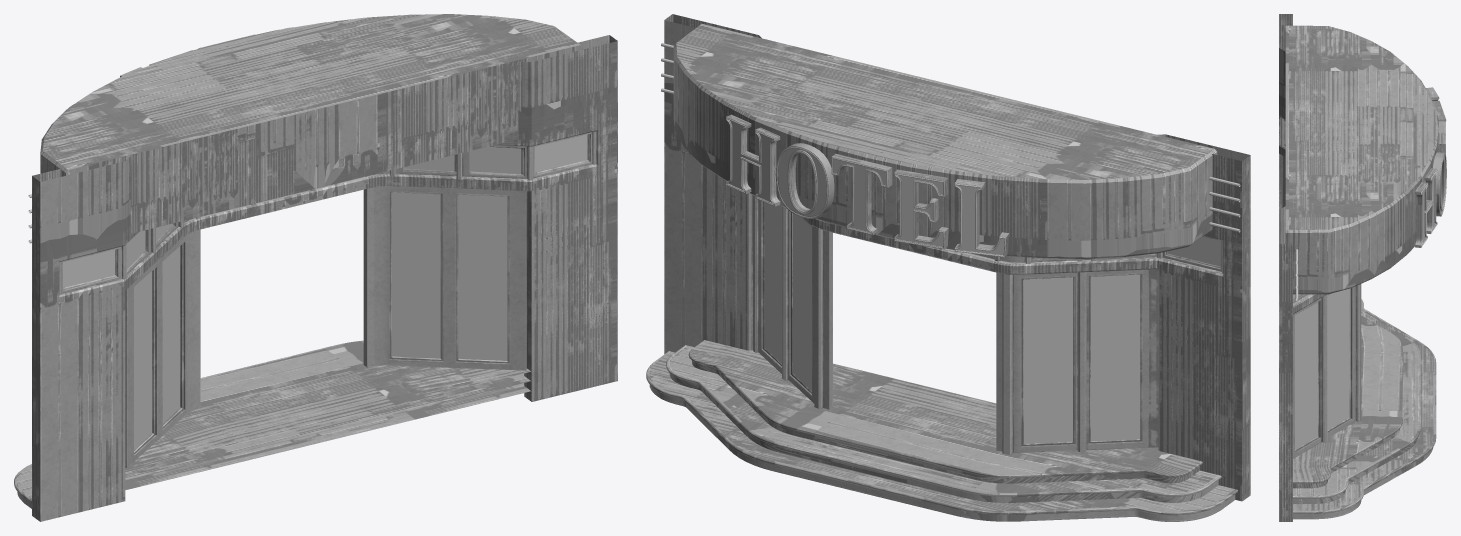
The model's file is SM_Building03_Entrance2R2.fbx.
3 views of the same model, side by side, from view 1: azimuth 30°, elevation 25°; view 2: azimuth 150°, elevation 25°; view 3: azimuth 270°, elevation 25° (orthographic). The views are drawn at different scales.
Visible parts, largest first — view 1: SM_Building03_Entrance2R2_LOD0; view 2: SM_Building03_Entrance2R2_LOD0; view 3: SM_Building03_Entrance2R2_LOD0.
Part boxes in pixels (left/top/right/bottom): SM_Building03_Entrance2R2_LOD0: left=14, top=14, right=617, bottom=521; SM_Building03_Entrance2R2_LOD0: left=646, top=14, right=1250, bottom=521; SM_Building03_Entrance2R2_LOD0: left=1279, top=14, right=1446, bottom=521.
Bounding box in the file's own units: 800 × 246 × 452.
